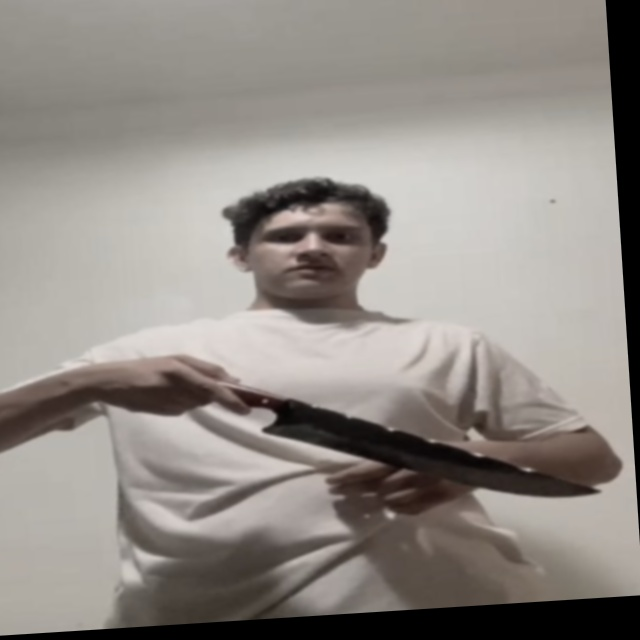Sharp-Object: (266, 389, 597, 519)
